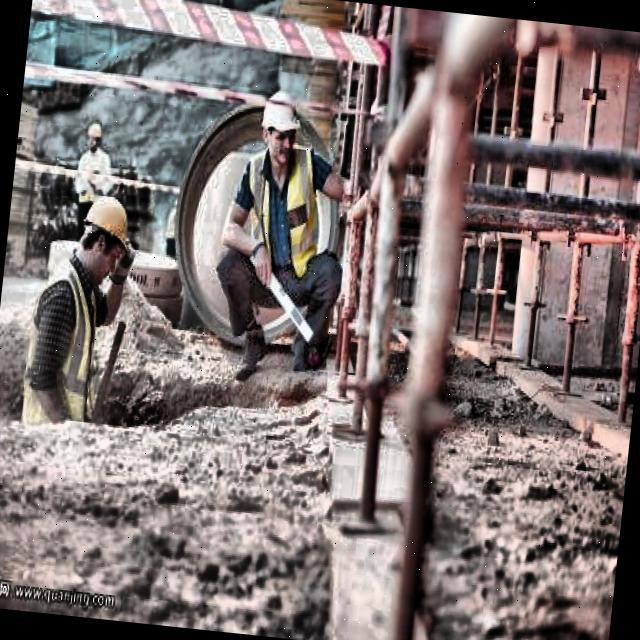helmet: (72, 188, 138, 291), (254, 85, 306, 164), (82, 115, 108, 154)
